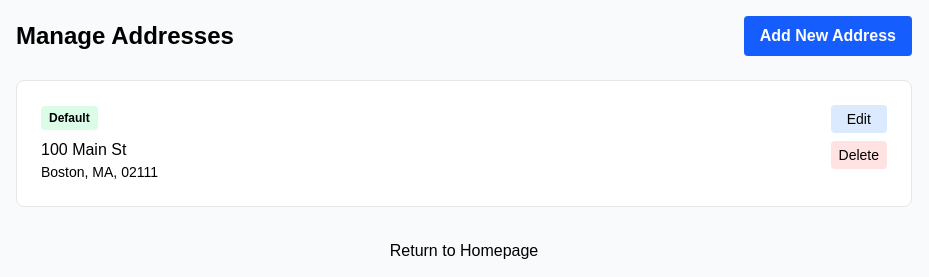
Test: AddressManagement › deletes an address when user confirms
Expected: the text "100 Main St" is shown, [41, 141, 126, 158]
Click the button "Delete" at point(859, 155), box [830, 141, 887, 169]
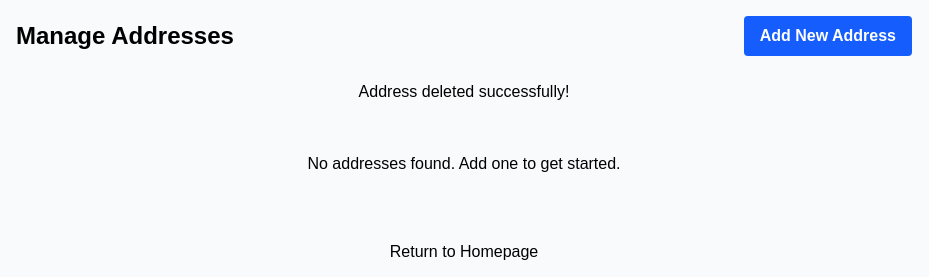
Expected: the text "Address deleted successfully!" is shown, [359, 83, 569, 100]
Expected: the text "100 Main St" is gone
